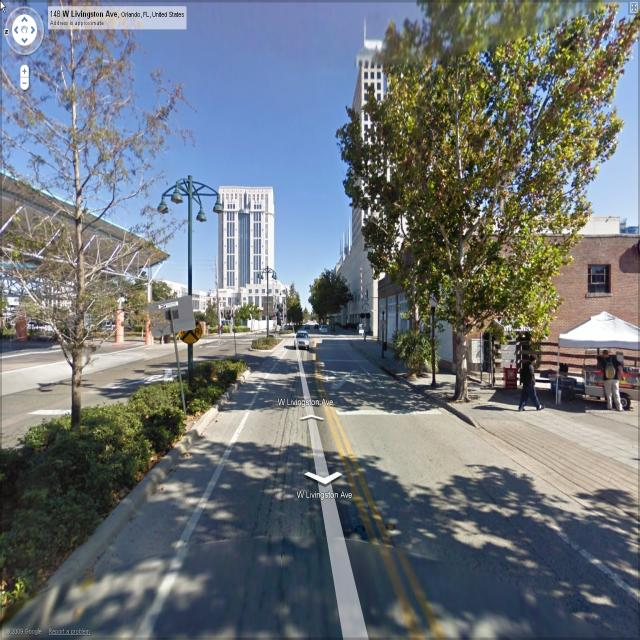b_1: (214, 175, 294, 342)
b_2: (376, 219, 640, 407), (348, 35, 436, 250)
